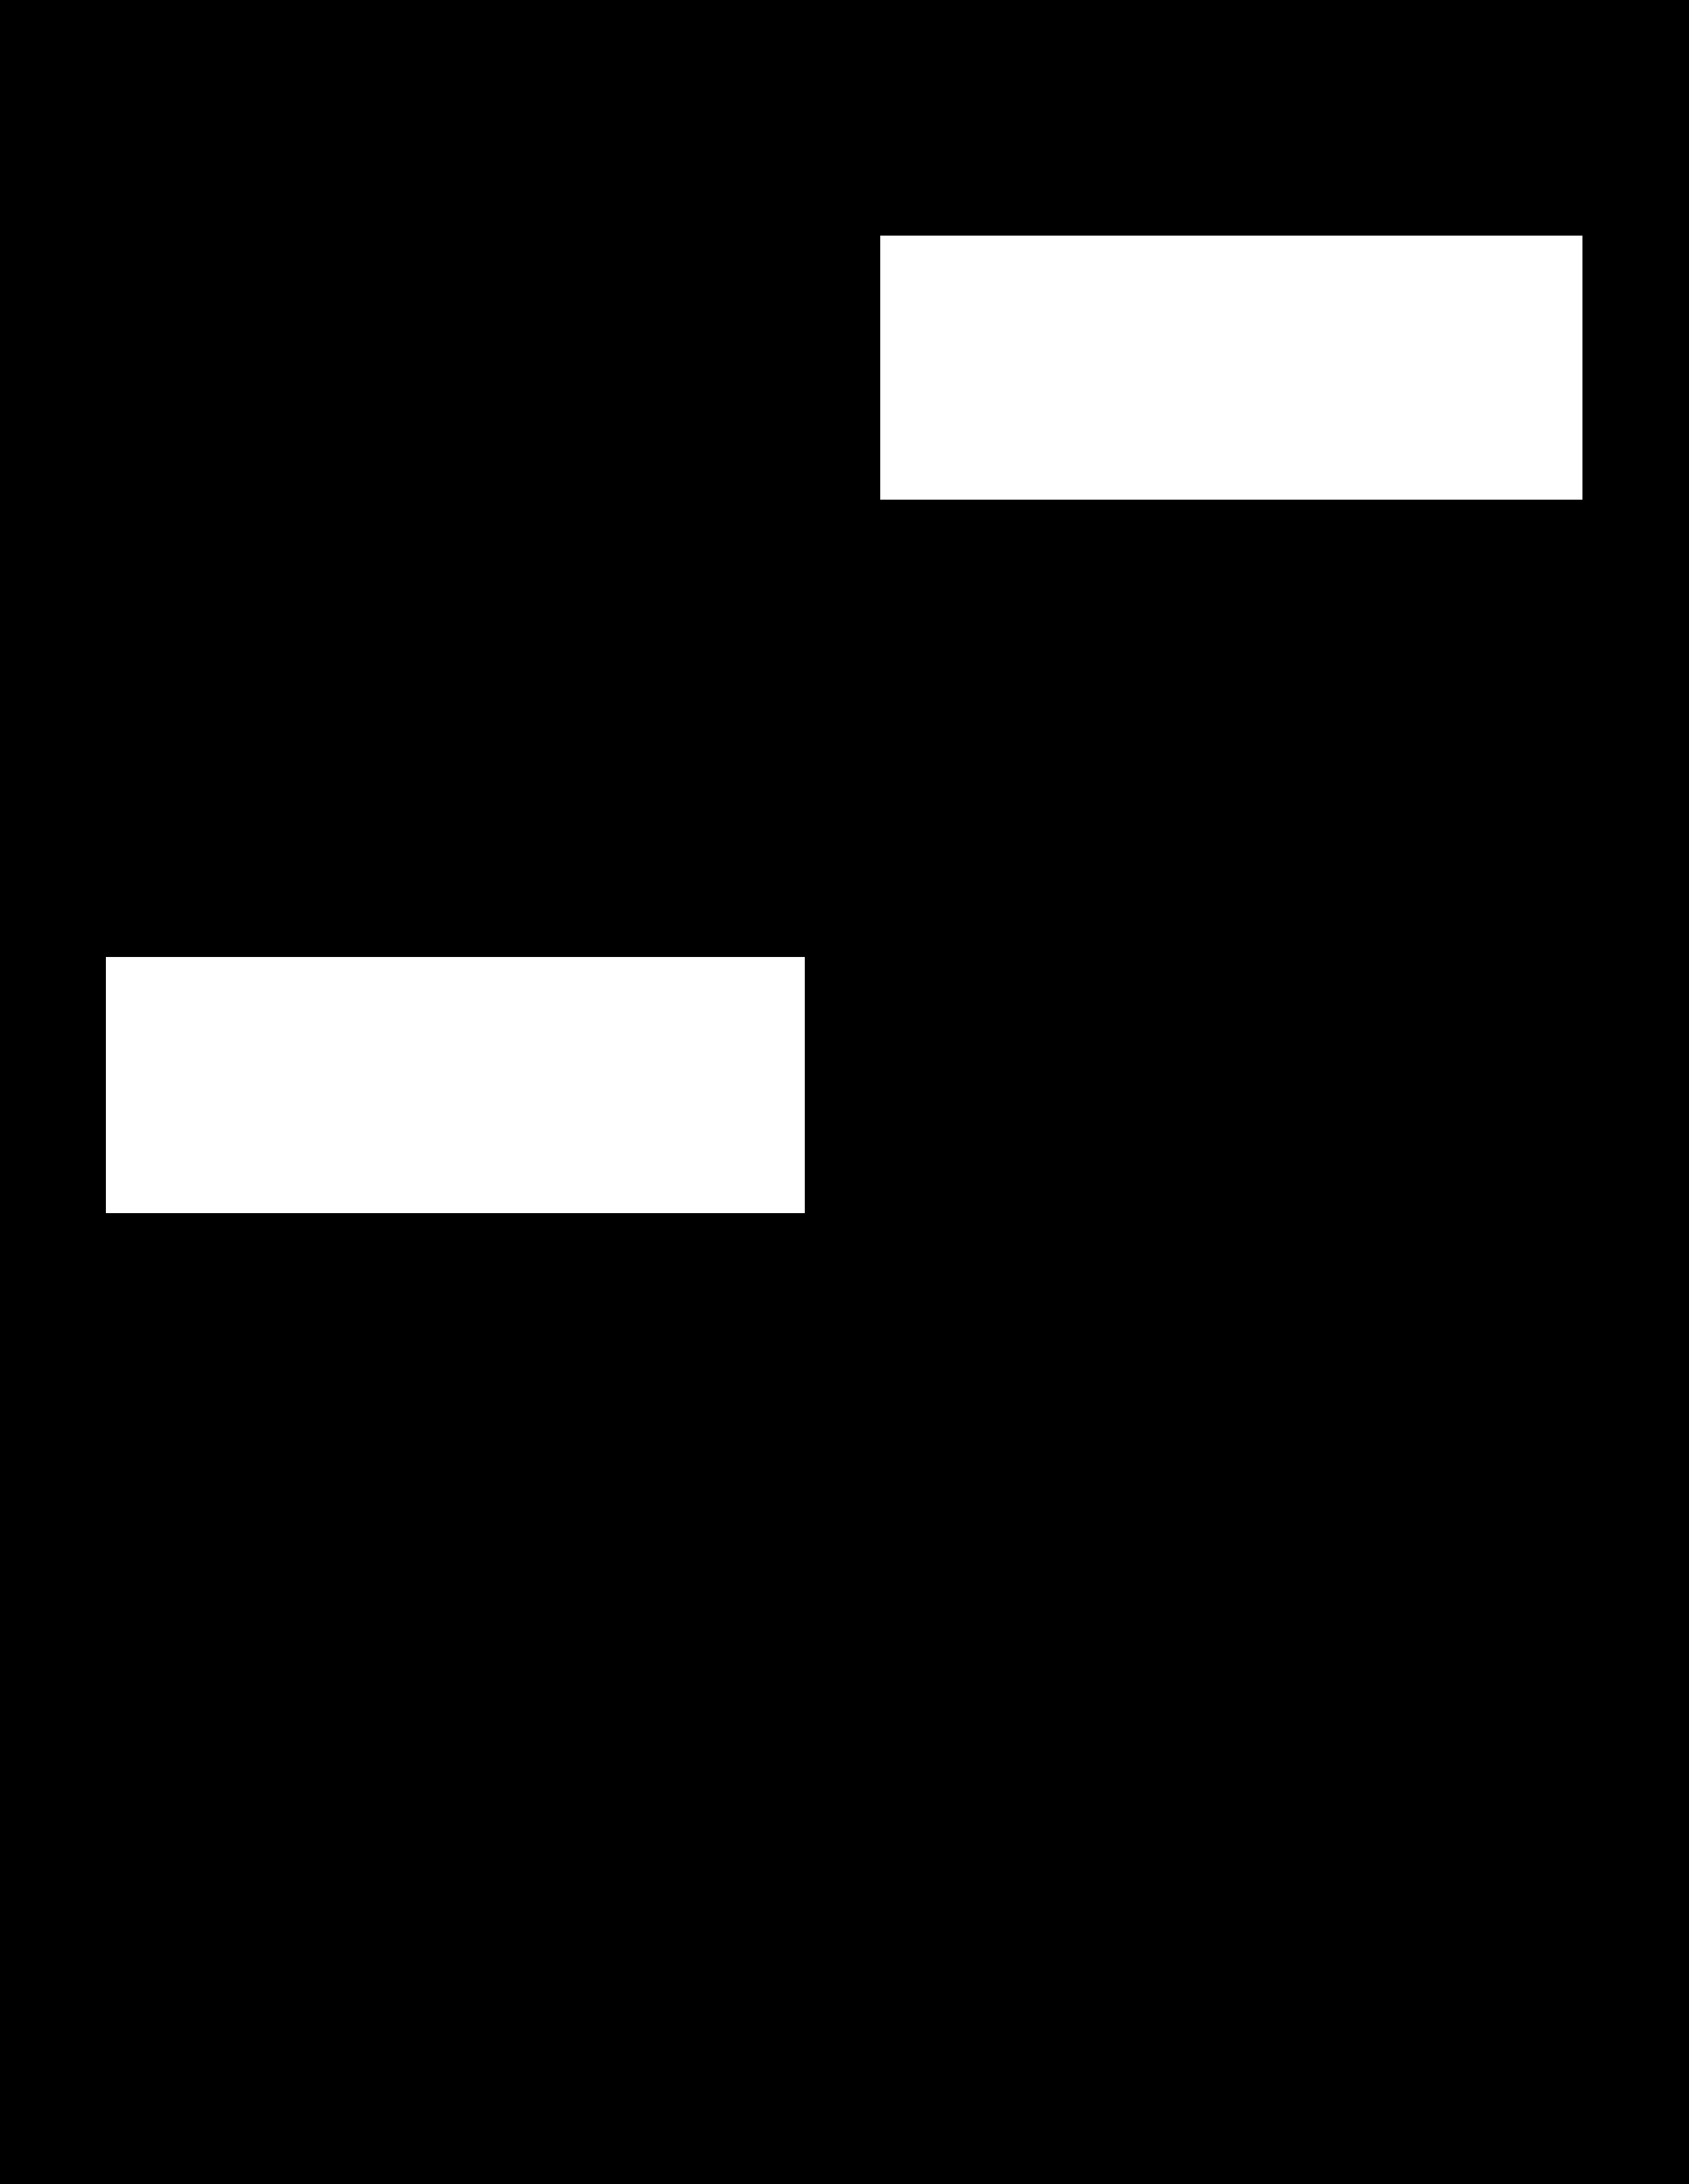table: (881, 236, 1583, 498), (106, 957, 805, 1213)
